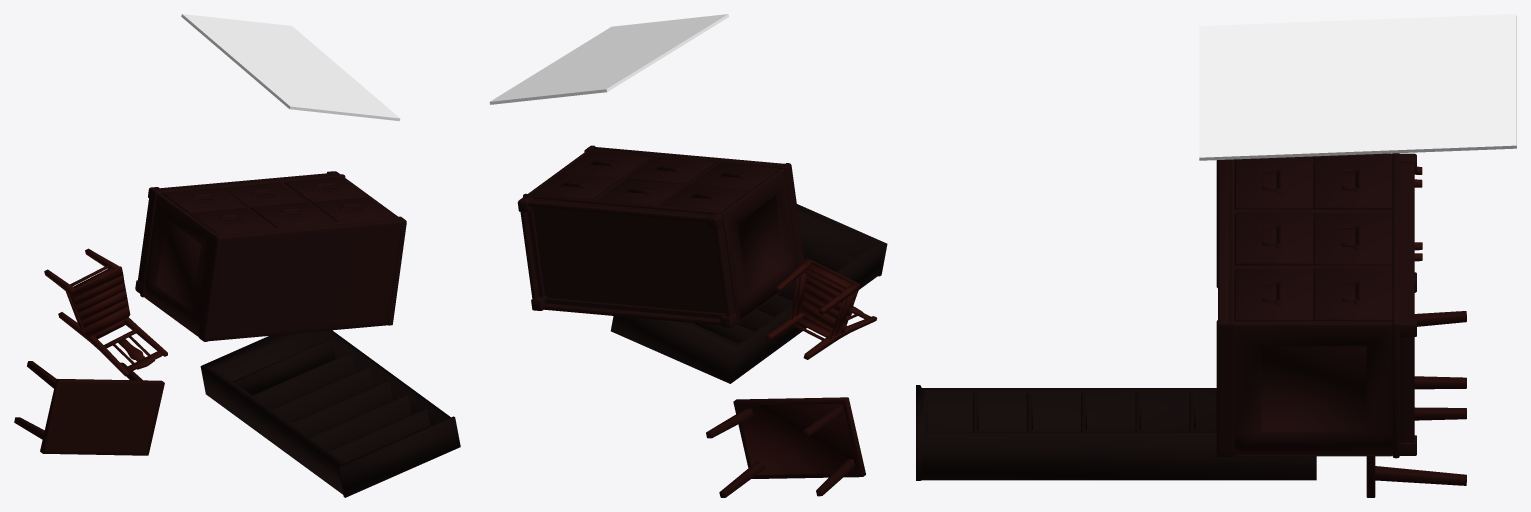
The picture shows the model from 3 angles, left to right: view 1: azimuth 30°, elevation 25°; view 2: azimuth 150°, elevation 25°; view 3: azimuth 270°, elevation 25°; orthographic projection. The views are drawn at different scales.
Visible parts, largest first — view 1: diffuse_cabinet_01, diffuse_shelf_03, glass_door_01, diffuse_table_02, diffuse_chair_04; view 2: diffuse_cabinet_01, diffuse_shelf_03, diffuse_table_02, glass_door_01, diffuse_chair_04; view 3: diffuse_cabinet_01, glass_door_01, diffuse_shelf_03, diffuse_table_02.
Boxes of the visible parts, x1,y1,x2,y2 form: diffuse_cabinet_01: [135, 171, 406, 341]; diffuse_shelf_03: [200, 330, 460, 497]; glass_door_01: [181, 14, 400, 121]; diffuse_table_02: [14, 361, 164, 455]; diffuse_chair_04: [44, 248, 167, 376]; diffuse_cabinet_01: [517, 145, 804, 327]; diffuse_shelf_03: [610, 204, 887, 383]; diffuse_table_02: [706, 397, 865, 497]; glass_door_01: [489, 14, 728, 104]; diffuse_chair_04: [766, 258, 877, 359]; diffuse_cabinet_01: [1216, 153, 1416, 458]; glass_door_01: [1199, 14, 1516, 160]; diffuse_shelf_03: [916, 385, 1316, 480]; diffuse_table_02: [1366, 311, 1466, 497].
Bounding box in the file's own units: 242 × 283 × 283.
